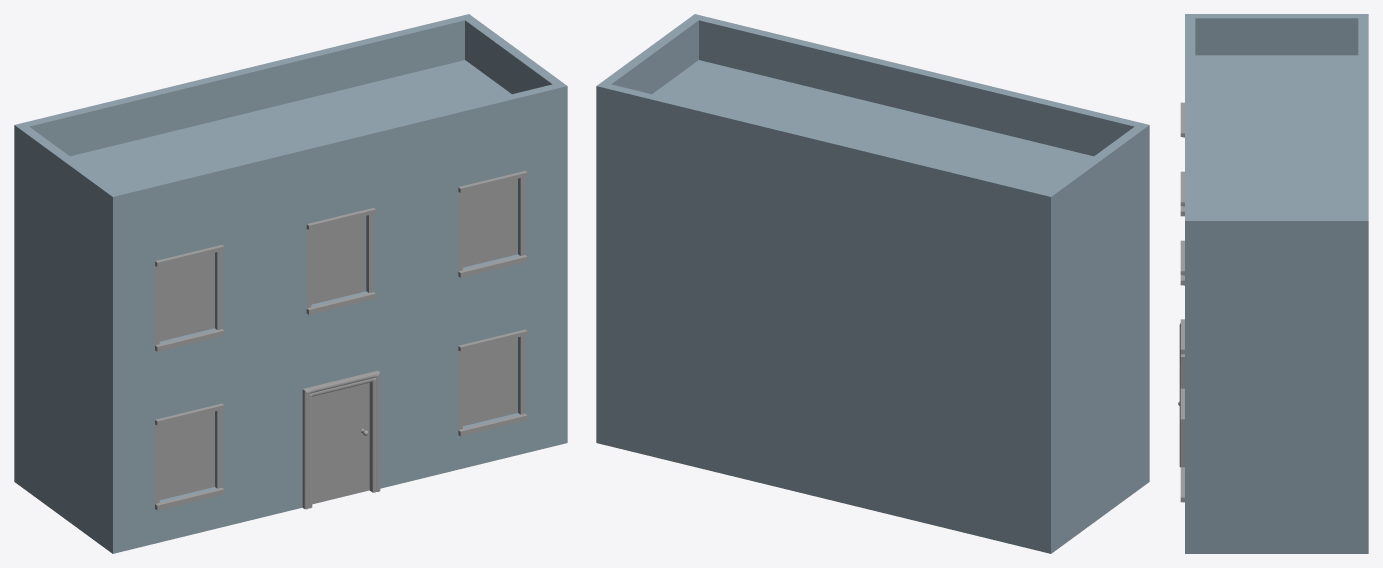
File: SM_House_Var_E.fbx
The picture shows the model from 3 angles, left to right: view 1: azimuth 30°, elevation 25°; view 2: azimuth 150°, elevation 25°; view 3: azimuth 270°, elevation 25°; orthographic projection. The views are drawn at different scales.
Parts seen in each view (by area): view 1: SM__House_Var_E; view 2: SM__House_Var_E; view 3: SM__House_Var_E.
Boxes of the visible parts, x1=… form: SM__House_Var_E: x1=14, y1=14, x2=567, y2=553; SM__House_Var_E: x1=596, y1=14, x2=1149, y2=553; SM__House_Var_E: x1=1178, y1=14, x2=1368, y2=553.
Size of the model in its own units: 6 by 4.5 by 2.33.
